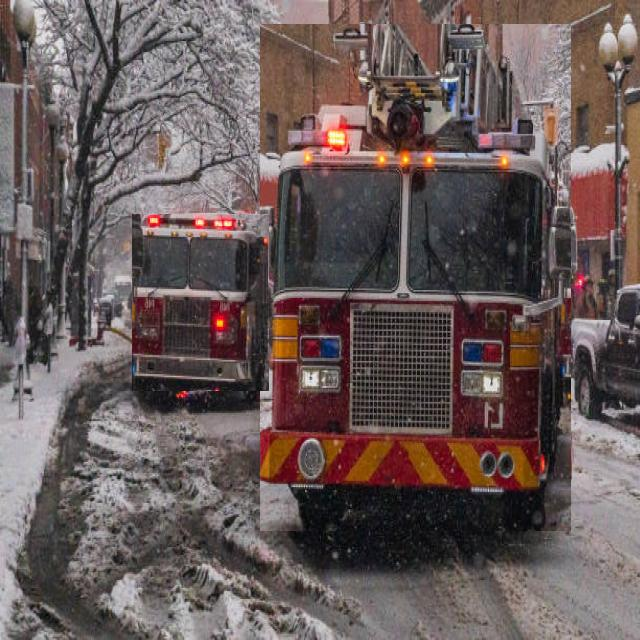emergency: (260, 25, 571, 531), (132, 215, 269, 391)
